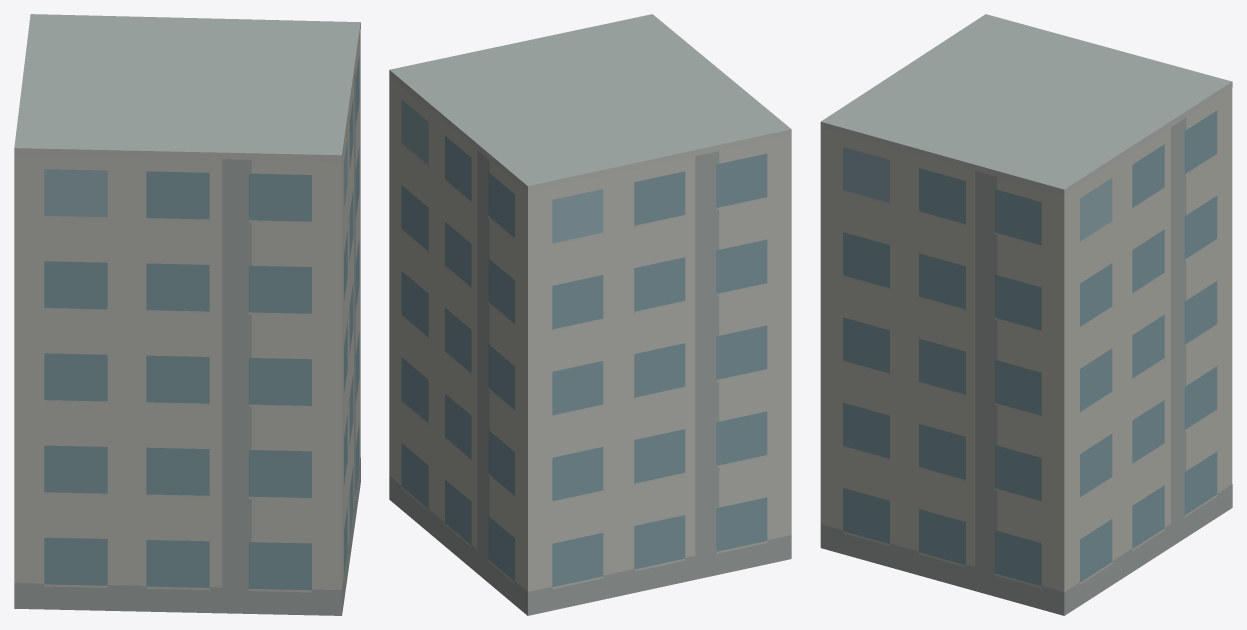
File: survey-upis-32984450.glb
The picture shows the model from 3 angles, left to right: view 1: azimuth 30°, elevation 25°; view 2: azimuth 150°, elevation 25°; view 3: azimuth 270°, elevation 25°; orthographic projection. The views are drawn at different scales.
Visible parts, largest first — view 1: survey-upis-32984450.tmp; view 2: survey-upis-32984450.tmp; view 3: survey-upis-32984450.tmp.
Part boxes in pixels (x1,y1,x2,y2): survey-upis-32984450.tmp: [14, 14, 360, 615]; survey-upis-32984450.tmp: [389, 14, 791, 615]; survey-upis-32984450.tmp: [820, 14, 1232, 615].
Size of the model in its own units: 14.85 by 16.8 by 14.72.
